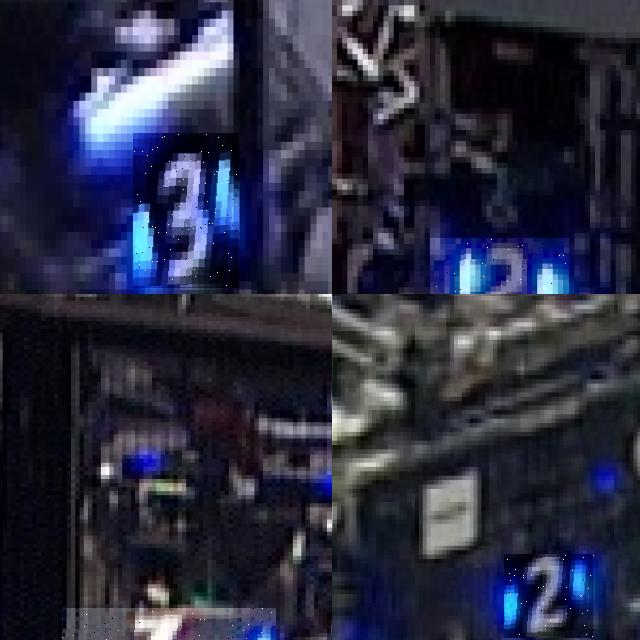B1: (62, 608, 275, 640)
B2: (429, 238, 569, 294), (504, 554, 594, 638)
B3: (133, 133, 239, 290)
